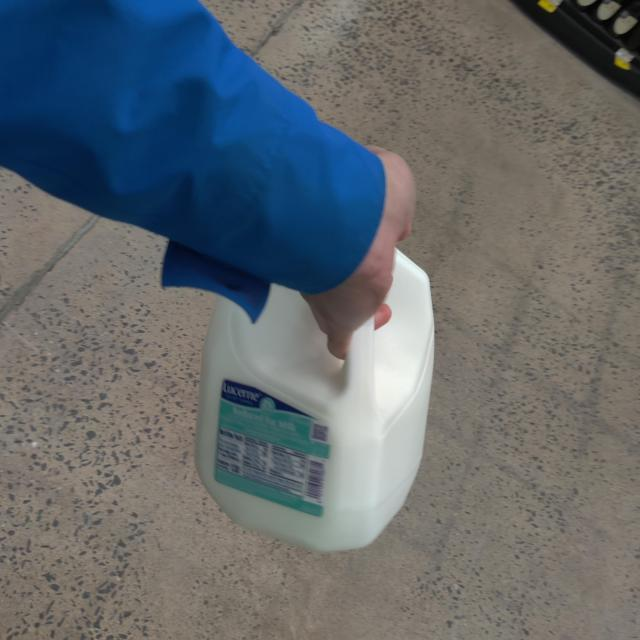Milk: (197, 220, 435, 550)
